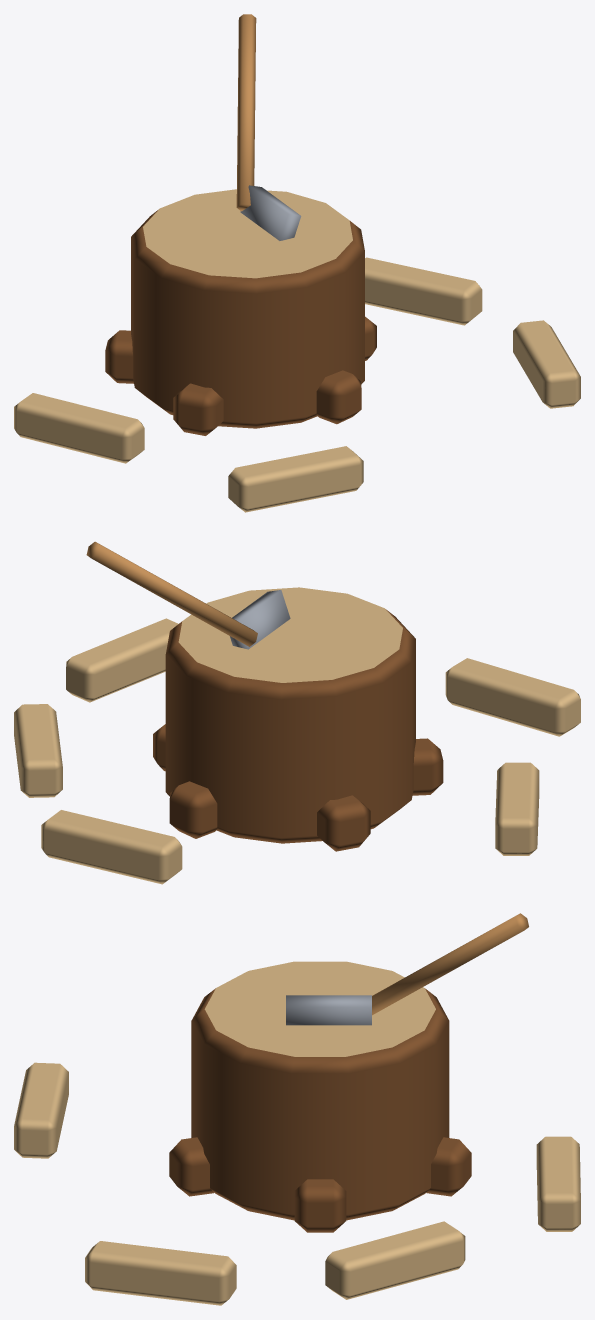
The model's file is chop_stump.glb.
3 renders of one model, top to bottom at view 1: azimuth 30°, elevation 25°; view 2: azimuth 150°, elevation 25°; view 3: azimuth 270°, elevation 25°, orthographic. The views are drawn at different scales.
Visible parts, largest first — view 1: chop_stump; view 2: chop_stump; view 3: chop_stump.
Part boxes in pixels (x1,y1,x2,y2): chop_stump: [14, 14, 580, 512]; chop_stump: [14, 541, 580, 884]; chop_stump: [14, 913, 580, 1305].
Bounding box in the file's own units: 1.43 × 0.7852 × 1.32.
